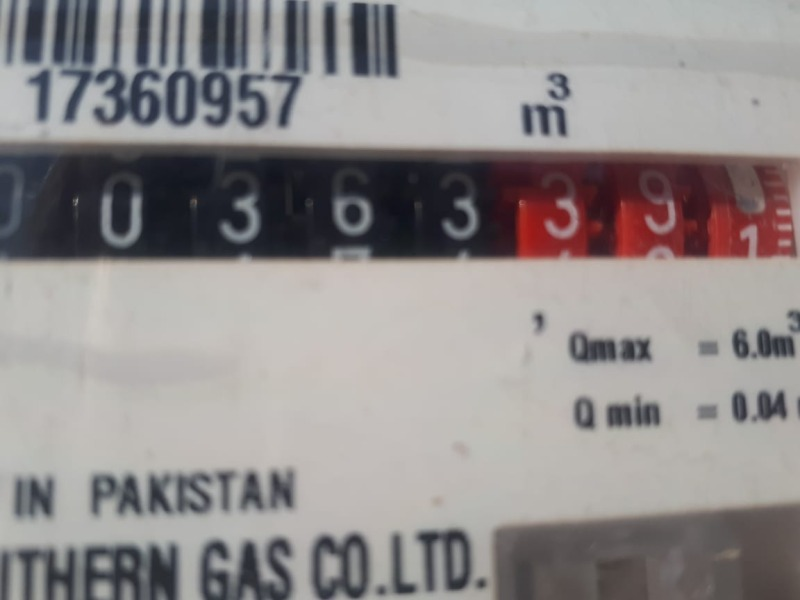ssgc: (9, 142, 797, 266)
